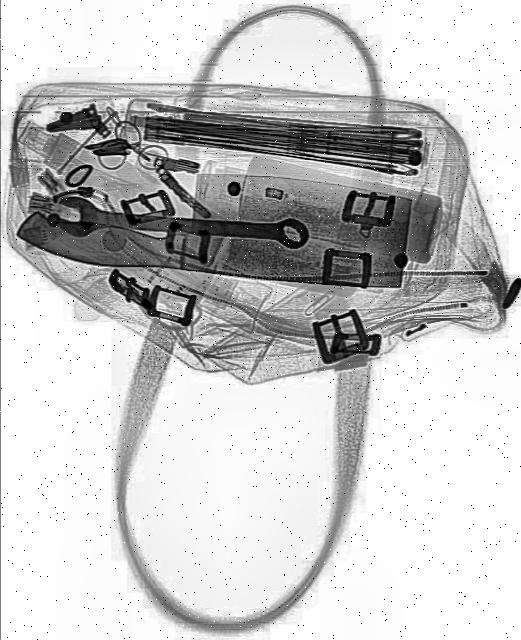Knife: (13, 161, 414, 293)
